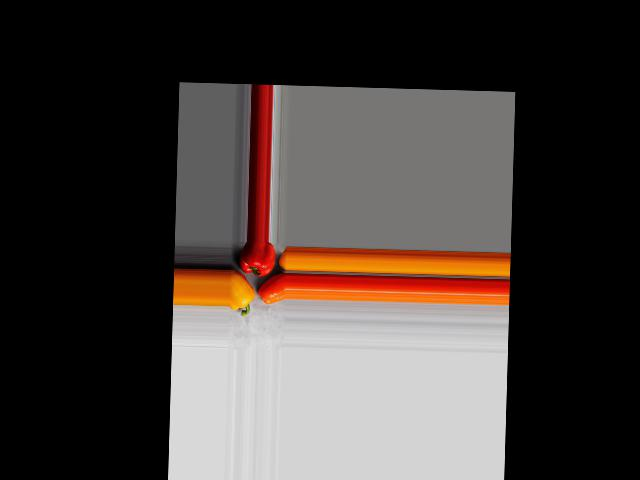bell_pepper: (237, 241, 276, 277)
